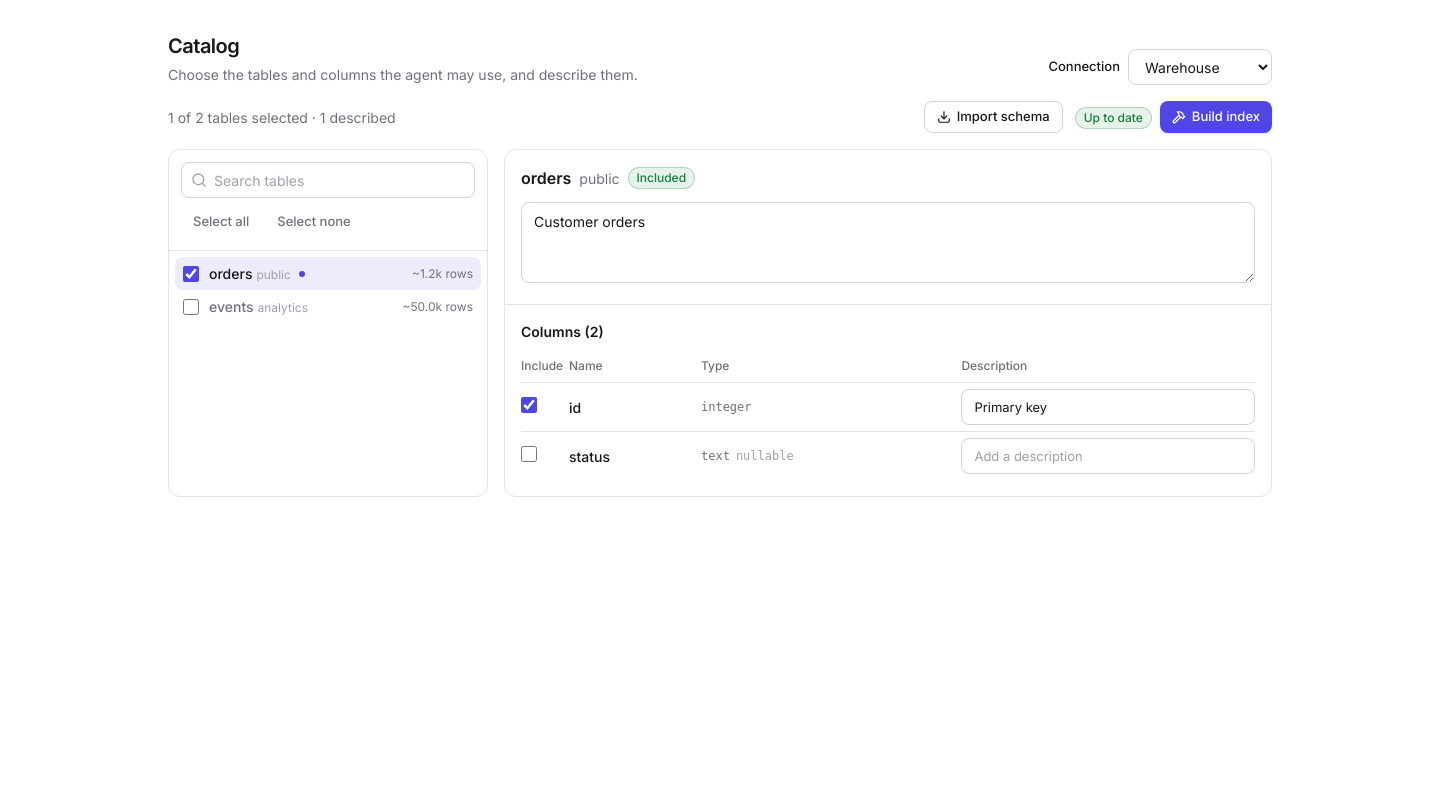
import and index › imports the schema, reloads, and marks a built index stale
Expected: the checkbox named "Include public.orders" is shown, left=183, top=266, right=199, bottom=282
Expected: the text "Up to date" is shown, left=1075, top=106, right=1152, bottom=128
What coordinates should you click on to do the following:
click the button "Import schema"
I would click on:
 (993, 117)
Its box is left=924, top=101, right=1063, bottom=133.
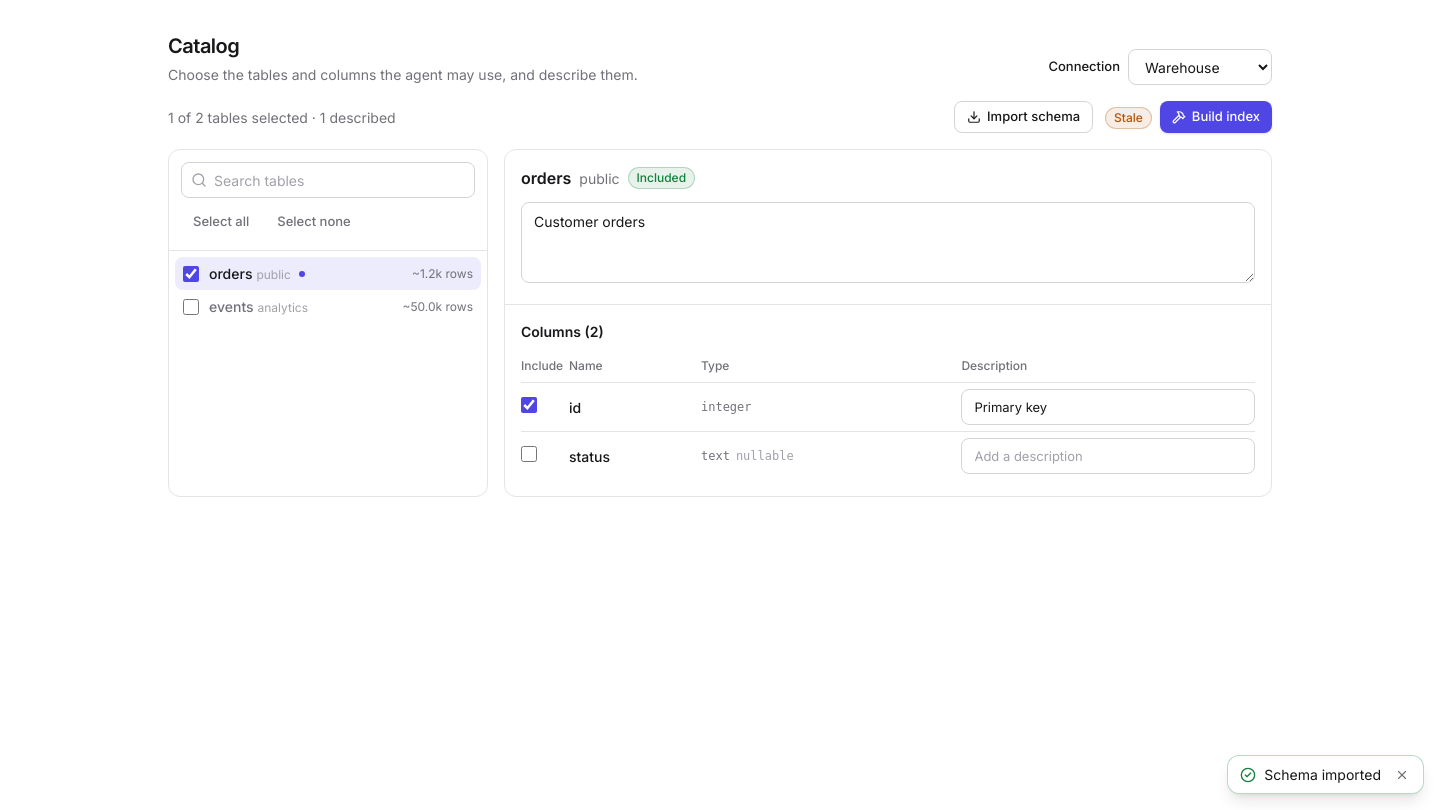
Expected: the text "Stale" is shown, left=1105, top=106, right=1152, bottom=128
